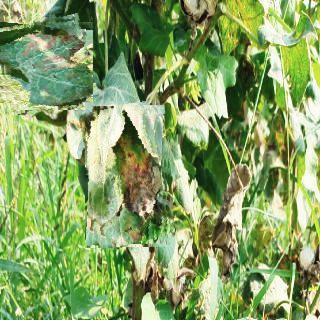blight: (85, 103, 171, 248), (0, 13, 93, 110)
